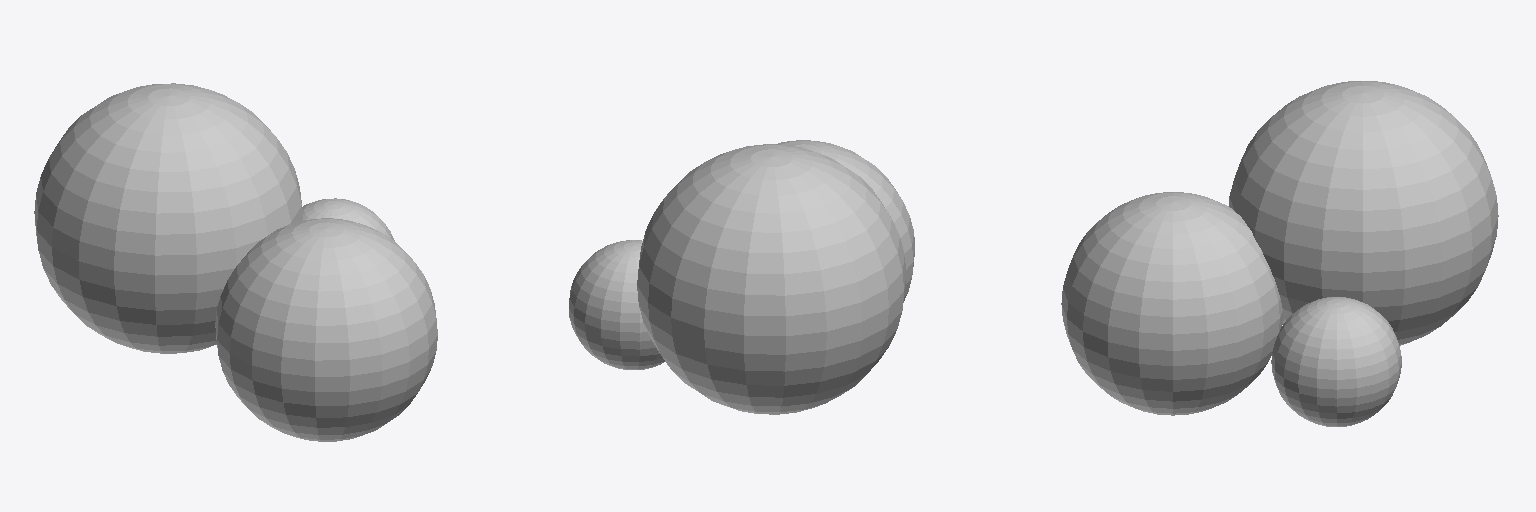
Rendered from circles.obj.
The picture shows the model from 3 angles: view 1: azimuth 30°, elevation 25°; view 2: azimuth 150°, elevation 25°; view 3: azimuth 270°, elevation 25°; orthographic projection.
Visible parts, largest first — view 1: pSphere1, pSphere3, pSphere2; view 2: pSphere1, pSphere2, pSphere3; view 3: pSphere1, pSphere3, pSphere2.
Part boxes in pixels (x1,y1,x2,y2): pSphere1: (34, 83, 302, 353); pSphere3: (215, 218, 437, 441); pSphere2: (302, 198, 394, 240); pSphere1: (637, 144, 905, 414); pSphere2: (569, 240, 664, 369); pSphere3: (776, 140, 914, 300); pSphere1: (1229, 81, 1498, 345); pSphere3: (1061, 192, 1283, 415); pSphere2: (1271, 297, 1401, 426).
Bounding box in the file's own units: 6.72 × 5.56 × 7.82.